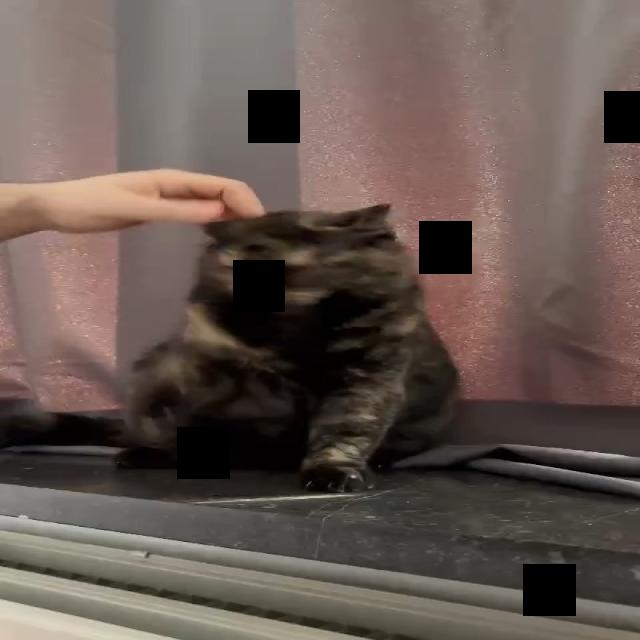authorized: (110, 201, 462, 493)
